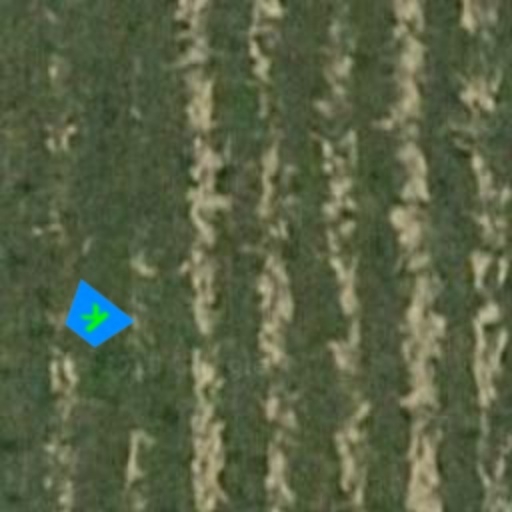trapezoid: (44, 268, 144, 368)
